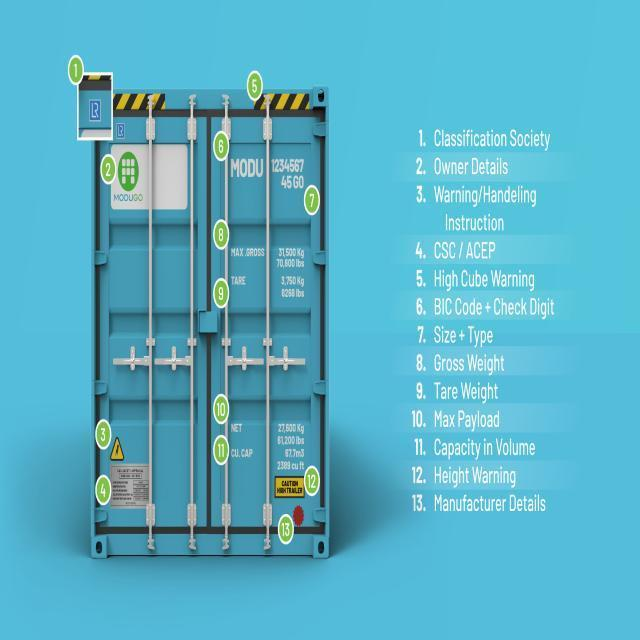container_number_h: (227, 150, 310, 201)
